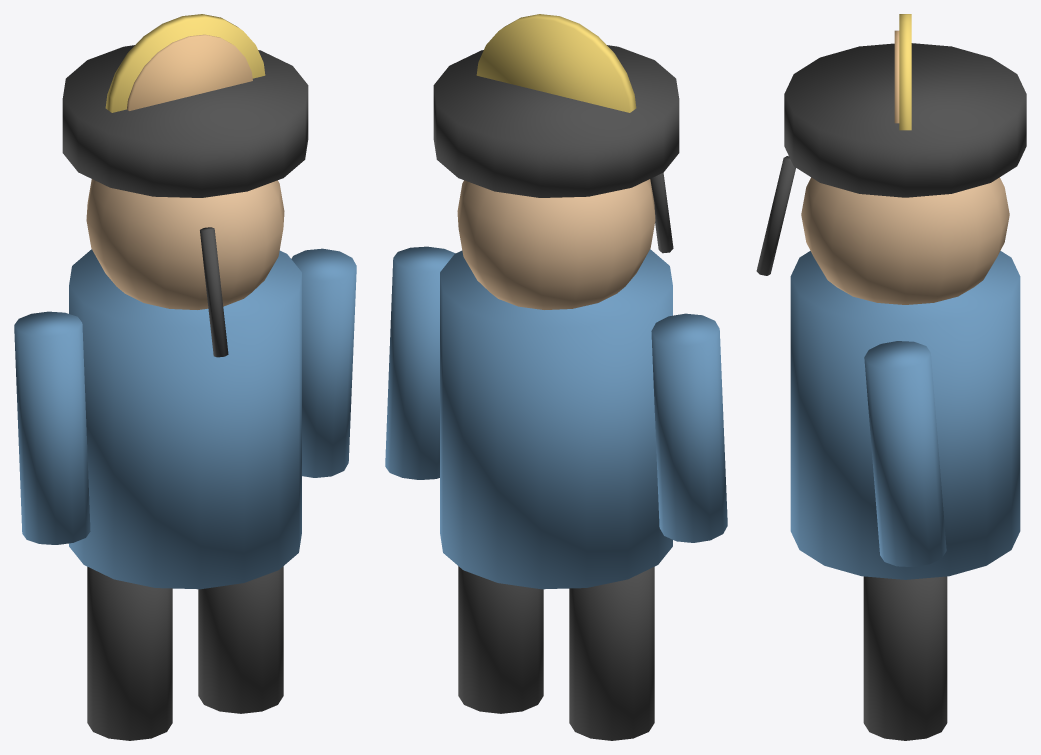
Rendered from zabita.glb.
3 views of the same model, side by side, from view 1: azimuth 30°, elevation 25°; view 2: azimuth 150°, elevation 25°; view 3: azimuth 270°, elevation 25° (orthographic). The views are drawn at different scales.
Visible parts, largest first — view 1: Gövde, Şapka, Baş, Kol, Bacak, Kol.001, Bacak.001, AvatarFrame, AvatarFrame_Rim, Telsiz; view 2: Gövde, Şapka, Baş, Kol, Bacak, Kol.001, Bacak.001, AvatarFrame_Rim, Telsiz; view 3: Gövde, Şapka, Baş, Kol.001, Bacak.001, Telsiz, AvatarFrame_Rim, AvatarFrame.
Part boxes in pixels (box(x1,y1,x2,y2)): Gövde: box(69, 249, 301, 589); Şapka: box(62, 45, 308, 197); Baş: box(86, 179, 284, 309); Kol: box(14, 311, 90, 544); Bacak: box(87, 567, 172, 740); Kol.001: box(291, 248, 356, 477); Bacak.001: box(198, 566, 283, 713); AvatarFrame: box(127, 34, 252, 110); AvatarFrame_Rim: box(105, 14, 265, 112); Telsiz: box(200, 227, 228, 357); Gövde: box(440, 249, 672, 589); Şapka: box(433, 45, 679, 197); Baş: box(457, 179, 655, 309); Kol: box(651, 313, 727, 542); Bacak: box(569, 567, 654, 740); Kol.001: box(385, 246, 455, 479); Bacak.001: box(458, 566, 543, 713); AvatarFrame_Rim: box(476, 14, 636, 112); Telsiz: box(650, 172, 673, 253); Gövde: box(790, 251, 1020, 579); Şapka: box(784, 43, 1026, 197); Baş: box(801, 177, 1009, 304); Kol.001: box(864, 341, 946, 567); Bacak.001: box(863, 576, 947, 740); Telsiz: box(756, 156, 795, 275); AvatarFrame_Rim: box(899, 14, 911, 130); AvatarFrame: box(894, 30, 899, 123).
Size of the model in its own units: 1.76 by 3.57 by 1.29.
